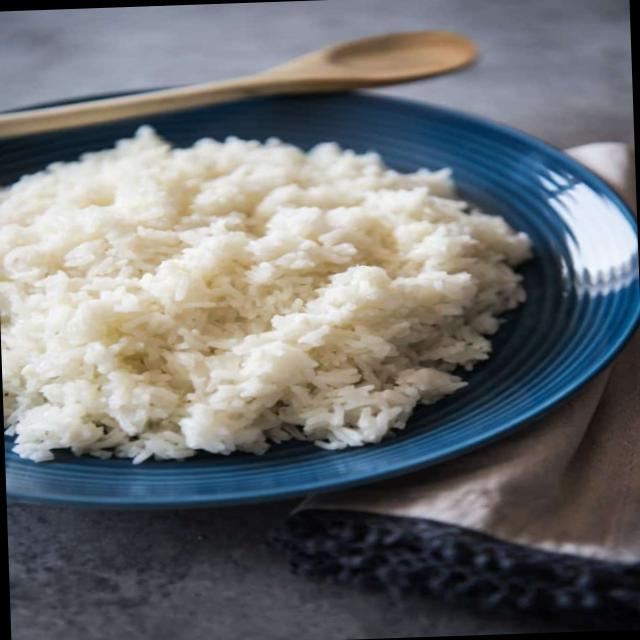Rice: (0, 113, 529, 463)
